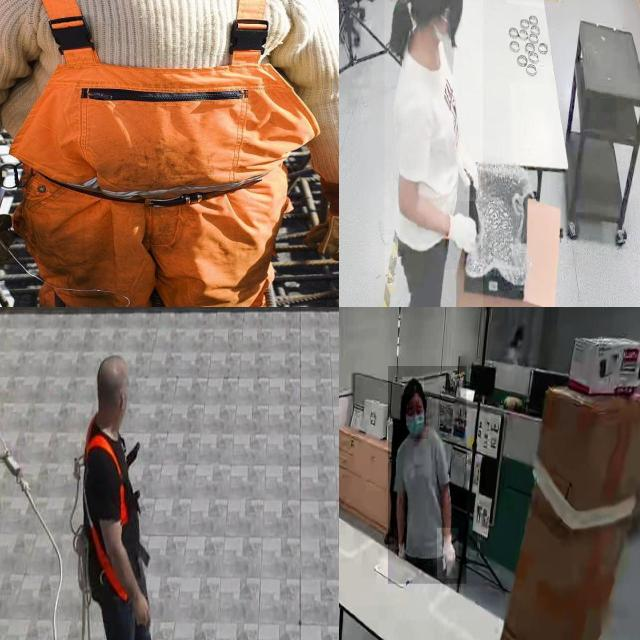Harness: (0, 452, 63, 640), (83, 432, 131, 602)
face_mask: (401, 395, 428, 439)
hand_glove: (446, 201, 482, 271), (451, 118, 479, 195), (437, 528, 459, 579)
head_nohelmet: (402, 377, 424, 395)
person: (384, 0, 483, 307), (388, 366, 467, 585)
